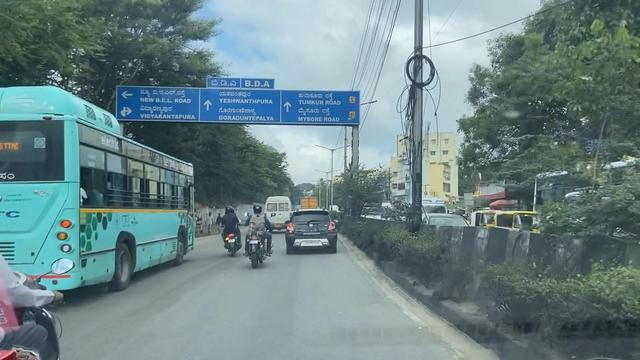HMV: (0, 88, 194, 288)
LMV: (288, 210, 338, 254), (251, 205, 270, 266), (224, 203, 239, 253)
